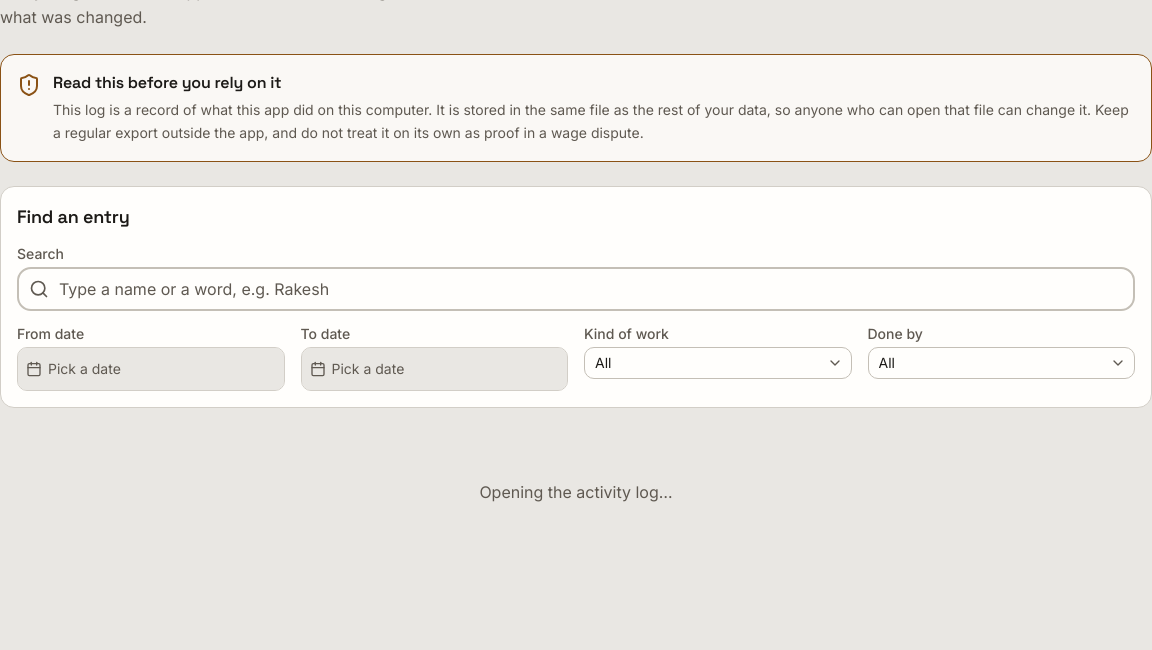
activity log viewer › ignores a result that arrives for a filter the owner has left
The image size is (1152, 650).
Type "asha" into the field labelled "Search".
click(576, 288); type("asha")  # box [17,266,1135,310]
(page scrolled)
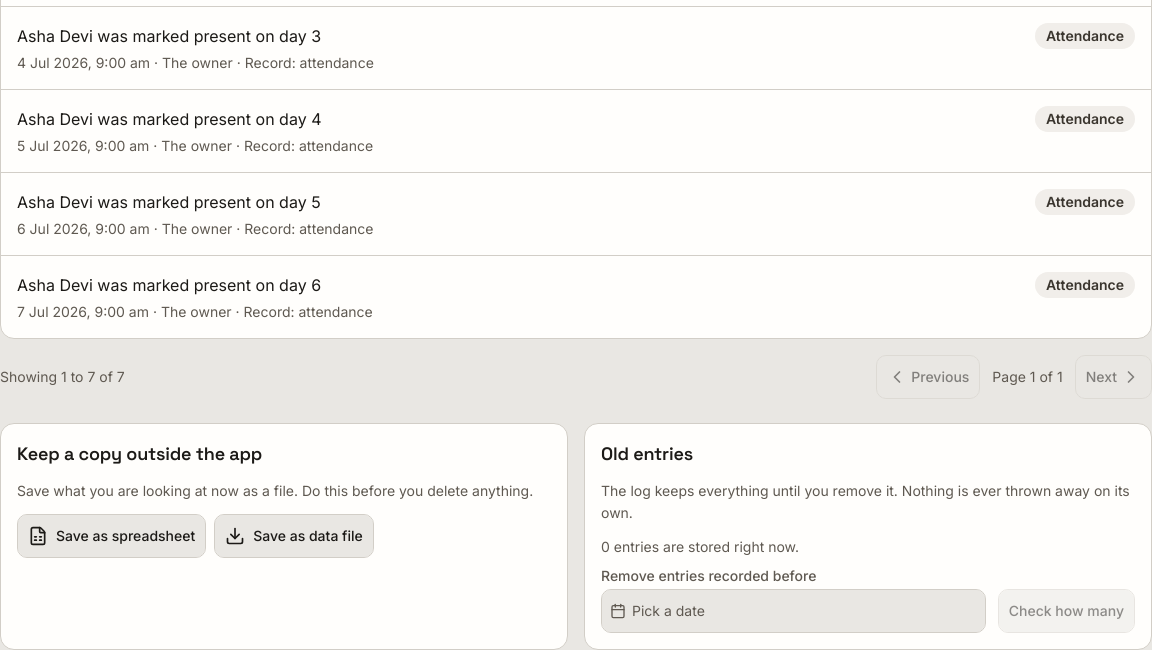
expect the text "Showing 1 to 7 of 7" is shown: met, box [0,366,125,386]
